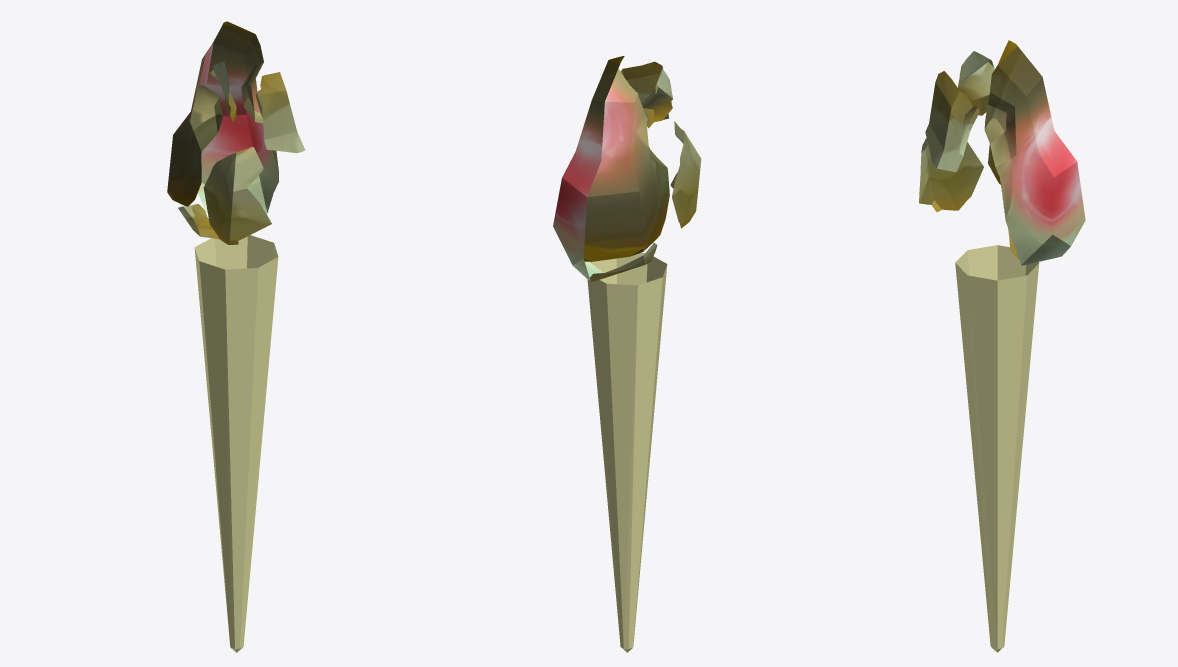
The model's file is obelisk.fbx.
3 renders of one model, left to right at view 1: azimuth 30°, elevation 25°; view 2: azimuth 150°, elevation 25°; view 3: azimuth 270°, elevation 25°, orthographic. The views are drawn at different scales.
Visible parts, largest first — view 1: ray_low, obelisk; view 2: obelisk, ray_low; view 3: obelisk, ray_low.
Boxes of the visible parts, x1=… form: ray_low: x1=194, y1=235, x2=278, y2=652; obelisk: x1=167, y1=21, x2=305, y2=244; obelisk: x1=553, y1=56, x2=701, y2=282; ray_low: x1=587, y1=253, x2=667, y2=652; obelisk: x1=919, y1=40, x2=1085, y2=265; ray_low: x1=955, y1=245, x2=1039, y2=652.
Bounding box in the file's own units: 29.92 × 58.98 × 32.82.
